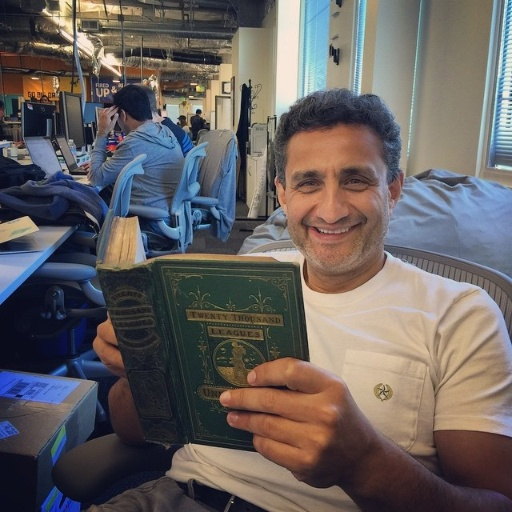hand: (227, 360, 400, 485), (92, 311, 124, 379), (96, 104, 120, 133), (14, 139, 24, 147)
